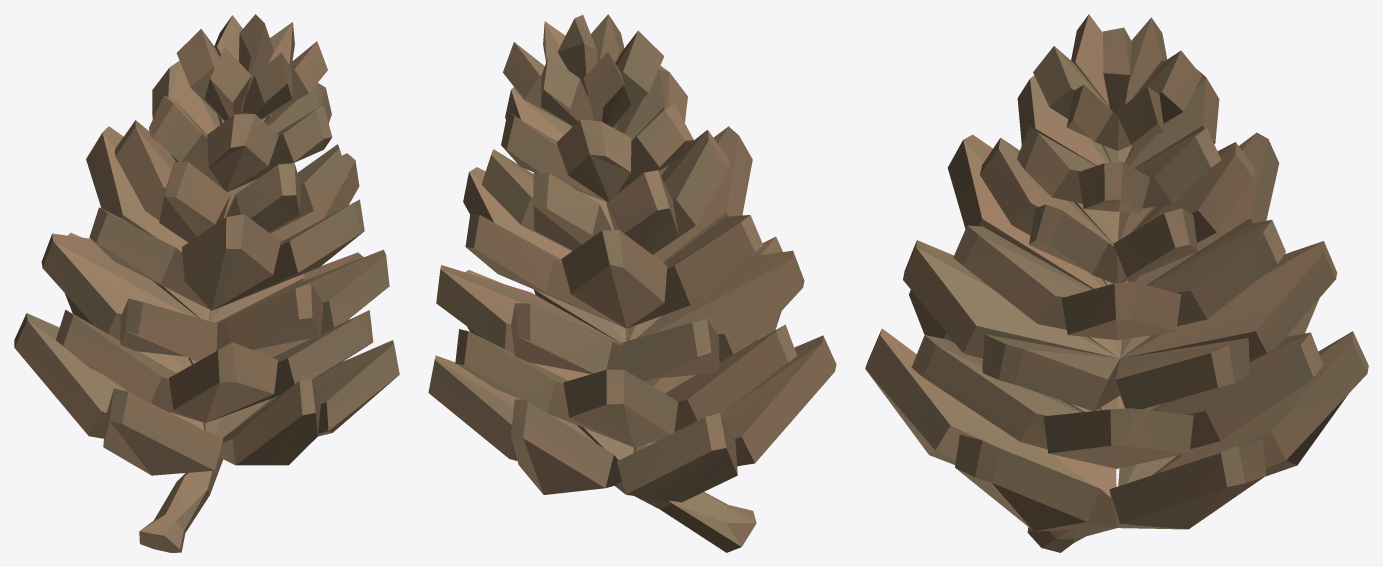
3 renders of one model, left to right at view 1: azimuth 30°, elevation 25°; view 2: azimuth 150°, elevation 25°; view 3: azimuth 270°, elevation 25°, orthographic. The views are drawn at different scales.
Visible parts, largest first — view 1: Pinecone; view 2: Pinecone; view 3: Pinecone.
Boxes of the visible parts, x1,y1,x2,y2 form: Pinecone: (14, 14, 399, 552); Pinecone: (428, 14, 836, 552); Pinecone: (865, 14, 1368, 552).
Size of the model in its own units: 1.18 by 1.79 by 1.38.
